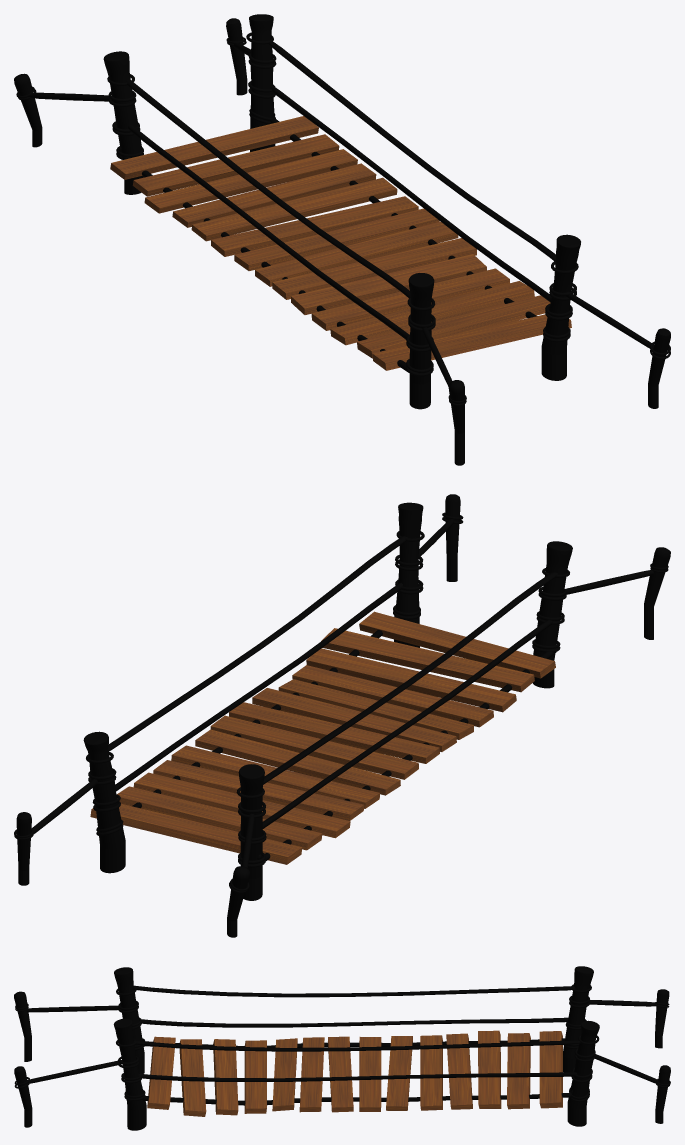
Rendered from Bridge_Straight.fbx.
3 views of the same model, one above another, from view 1: azimuth 30°, elevation 25°; view 2: azimuth 150°, elevation 25°; view 3: azimuth 270°, elevation 25° (orthographic). The views are drawn at different scales.
Visible parts, largest first — view 1: plunk14, plunk10, plunk12, plunk13, plunk9, plunk11, plunk7, plunk6, plunk8, plunk5, plunk3, plunk4 (+15 smaller); view 2: plunk2, plunk3, plunk1, plunk9, plunk8, plunk7, plunk12, plunk14, plunk6, plunk4, plunk13, plunk11 (+14 smaller); view 3: rope, rope2, rope4, rope3, wood001, wood002, plunk14, plunk12, plunk2, plunk13, plunk3, plunk11 (+20 smaller).
Boxes of the visible parts, x1=… form: plunk14: x1=110, y1=116, x2=318, y2=179; plunk10: x1=191, y1=177, x2=397, y2=241; plunk12: x1=144, y1=149, x2=357, y2=213; plunk13: x1=132, y1=134, x2=339, y2=196; plunk9: x1=211, y1=196, x2=418, y2=256; plunk11: x1=172, y1=163, x2=376, y2=227; plunk7: x1=255, y1=221, x2=458, y2=286; plunk6: x1=272, y1=238, x2=476, y2=299; plunk8: x1=234, y1=208, x2=439, y2=270; plunk5: x1=291, y1=254, x2=486, y2=314; plunk3: x1=330, y1=281, x2=534, y2=345; plunk4: x1=311, y1=268, x2=509, y2=330; plunk2: x1=321, y1=628, x2=534, y2=692; plunk3: x1=306, y1=648, x2=516, y2=712; plunk1: x1=359, y1=611, x2=555, y2=678; plunk9: x1=195, y1=729, x2=400, y2=795; plunk8: x1=210, y1=715, x2=418, y2=779; plunk7: x1=229, y1=702, x2=439, y2=763; plunk12: x1=133, y1=772, x2=350, y2=838; plunk14: x1=90, y1=803, x2=302, y2=864; plunk6: x1=252, y1=688, x2=456, y2=751; plunk4: x1=292, y1=665, x2=493, y2=727; plunk13: x1=117, y1=786, x2=322, y2=850; plunk11: x1=153, y1=760, x2=364, y2=820; rope: x1=133, y1=1040, x2=581, y2=1051; rope2: x1=134, y1=985, x2=575, y2=997; rope4: x1=141, y1=1017, x2=568, y2=1027; rope3: x1=138, y1=1072, x2=590, y2=1081; wood001: x1=113, y1=1018, x2=146, y2=1130; wood002: x1=567, y1=1020, x2=599, y2=1126; plunk14: x1=539, y1=1031, x2=562, y2=1108; plunk12: x1=478, y1=1030, x2=501, y2=1108; plunk2: x1=179, y1=1039, x2=206, y2=1116; plunk13: x1=507, y1=1033, x2=530, y2=1109; plunk3: x1=213, y1=1039, x2=238, y2=1115; plunk11: x1=446, y1=1033, x2=472, y2=1109.
Bounding box in the file's own units: 4.64 × 2.72 × 15.03.
